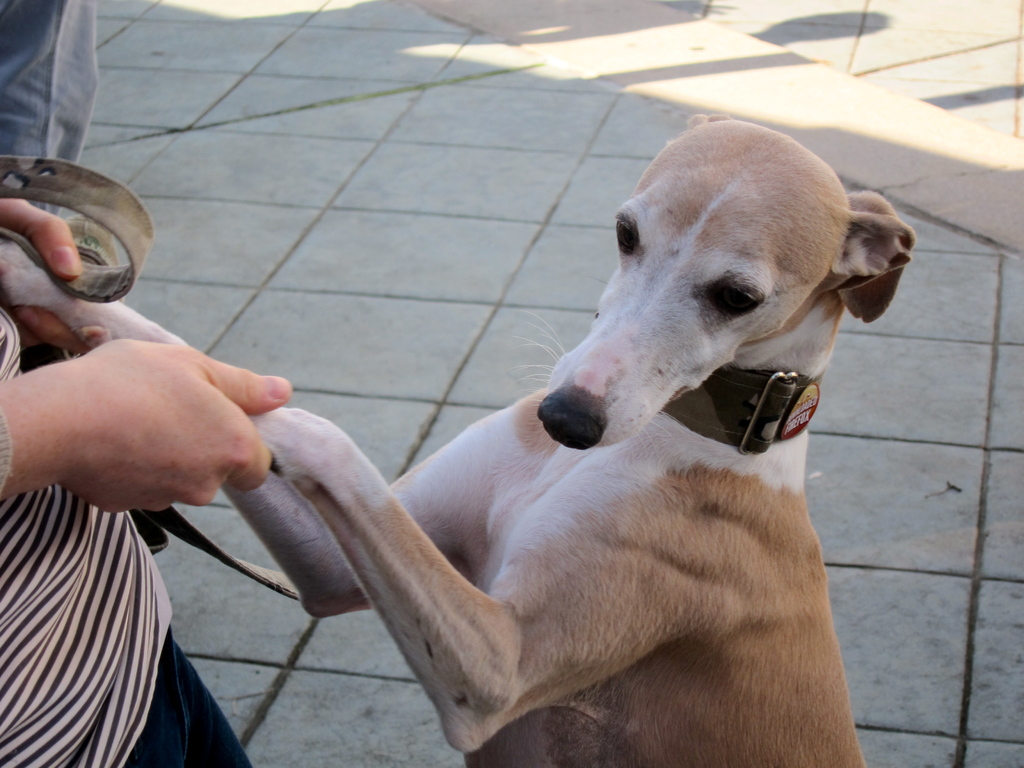Person: (0, 199, 290, 767)
